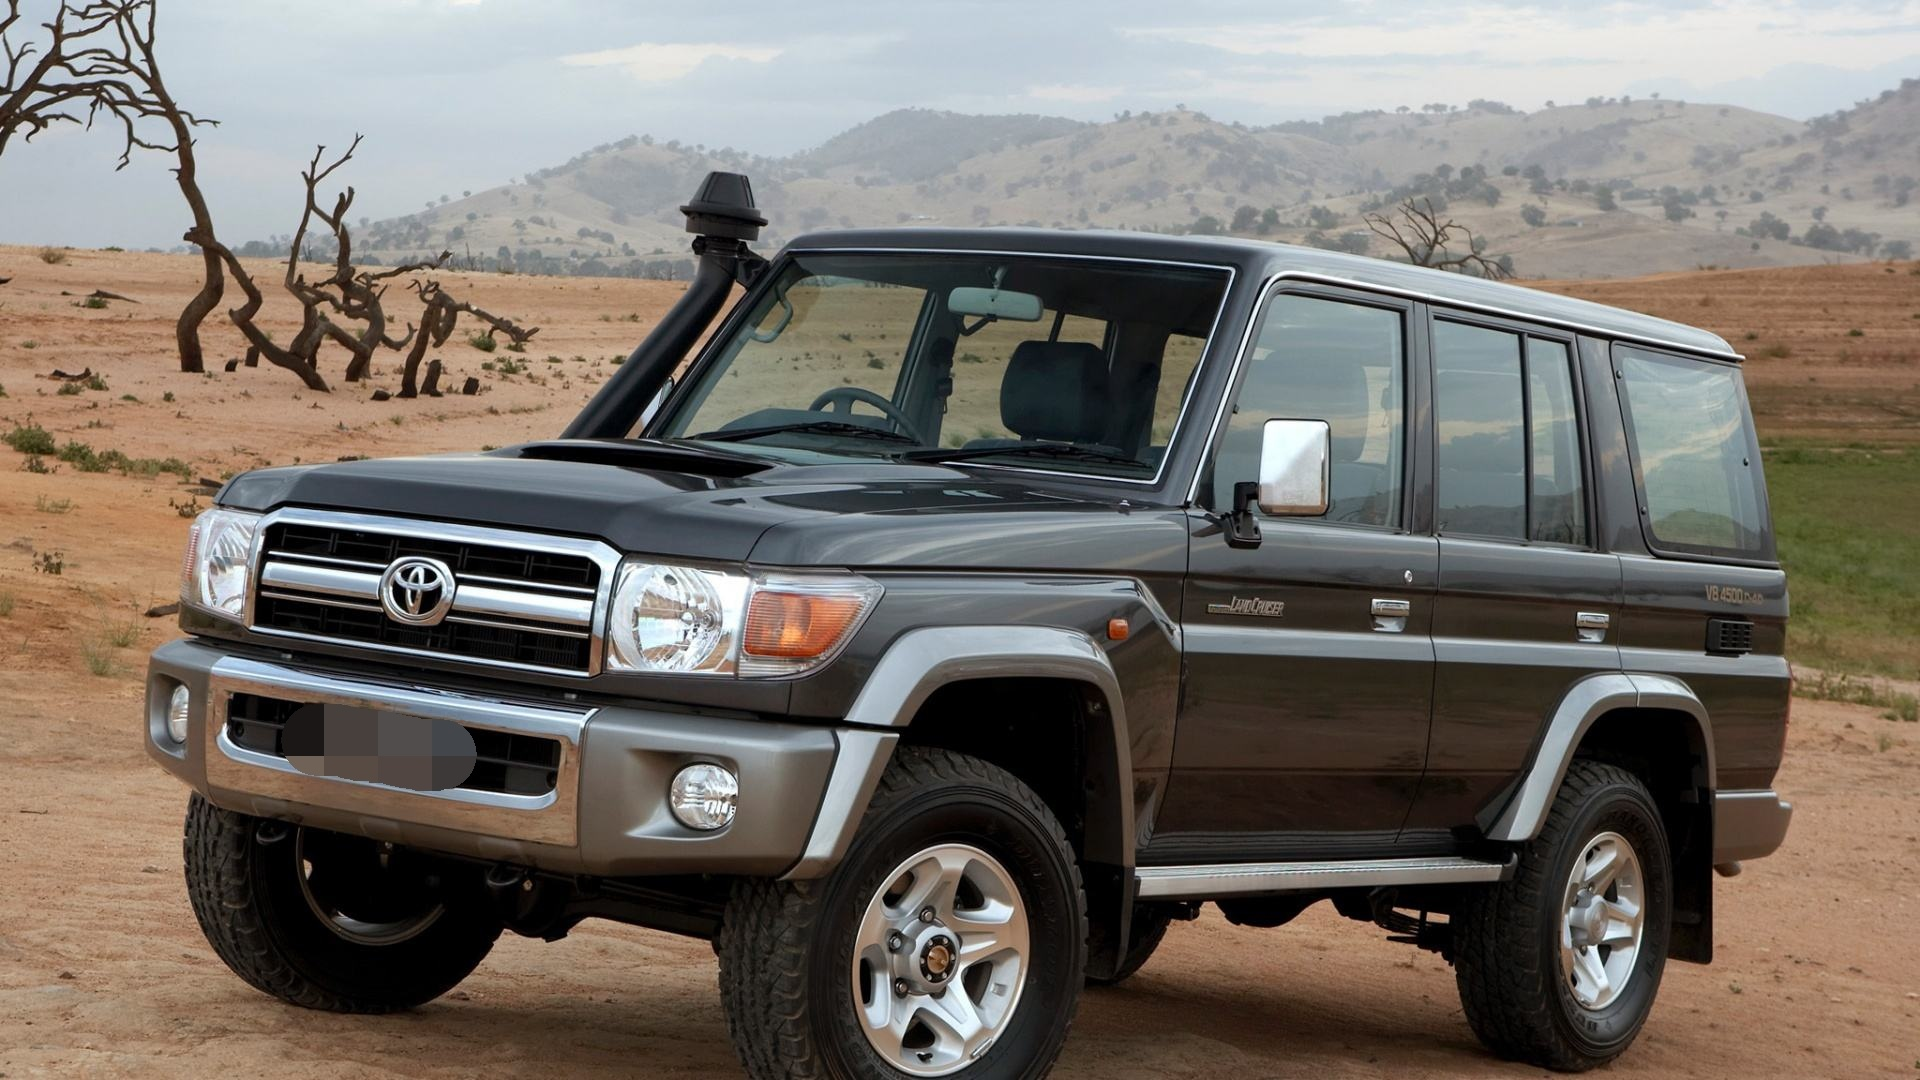jeep: (148, 181, 1796, 1080)
